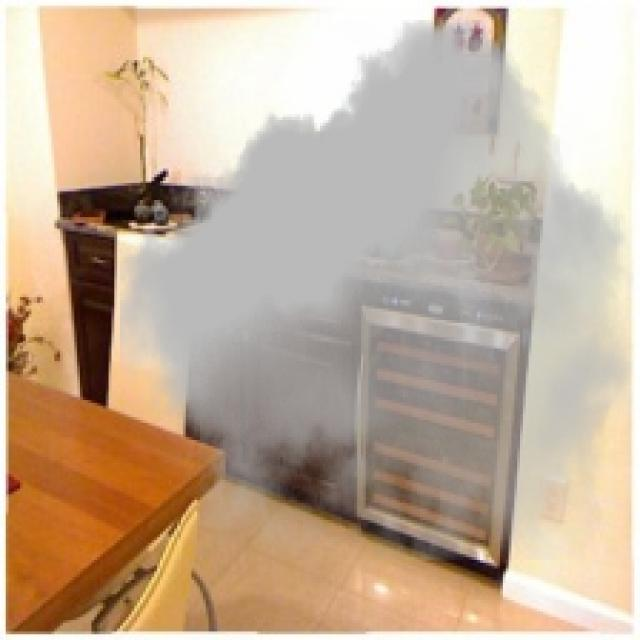smoke: (120, 20, 634, 560)
